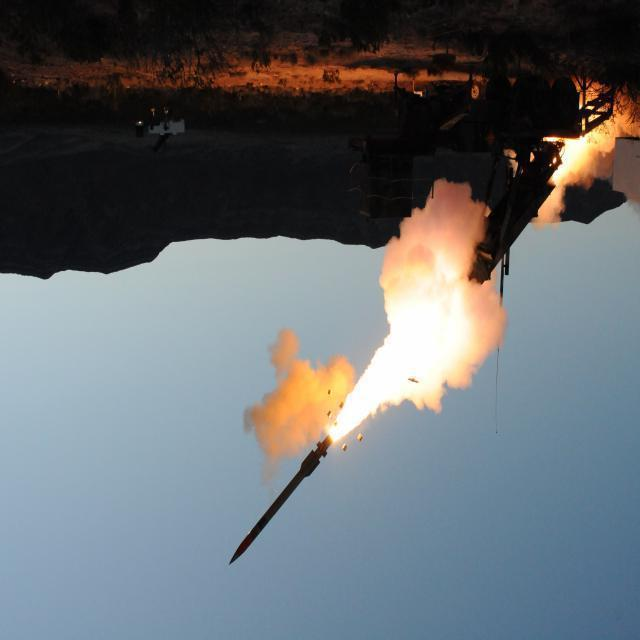missile: (226, 428, 332, 564)
